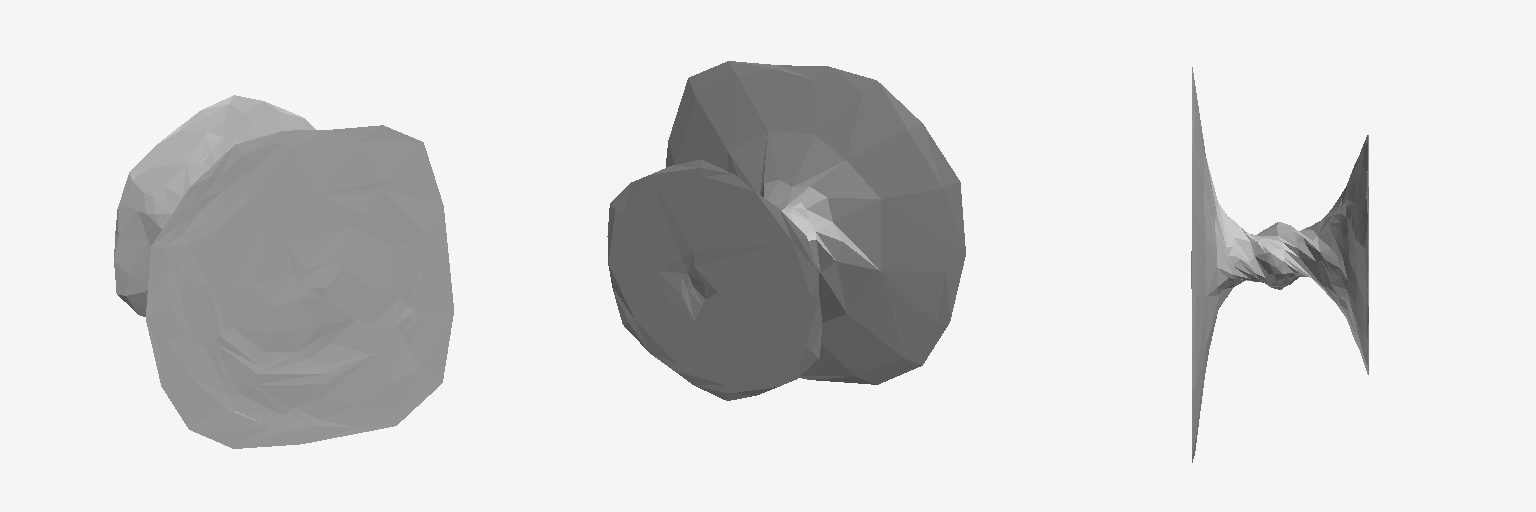
File: tinker.obj
The picture shows the model from 3 angles: view 1: azimuth 30°, elevation 25°; view 2: azimuth 150°, elevation 25°; view 3: azimuth 270°, elevation 25°; orthographic projection.
Visible parts, largest first — view 1: obj_0; view 2: obj_0; view 3: obj_0.
Part boxes in pixels (bbox=[...]): obj_0: bbox=[114, 95, 453, 448]; obj_0: bbox=[607, 61, 965, 400]; obj_0: bbox=[1191, 67, 1368, 462].
Size of the model in its own units: 10 by 10 by 5.